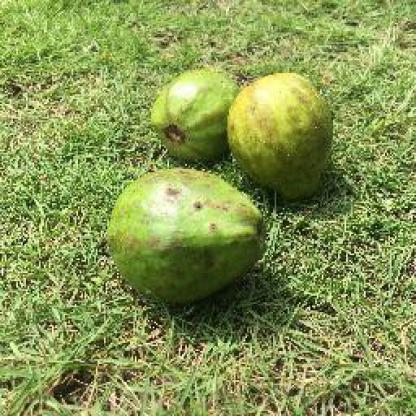guava: (104, 164, 270, 302), (231, 70, 335, 202), (153, 66, 234, 160)
